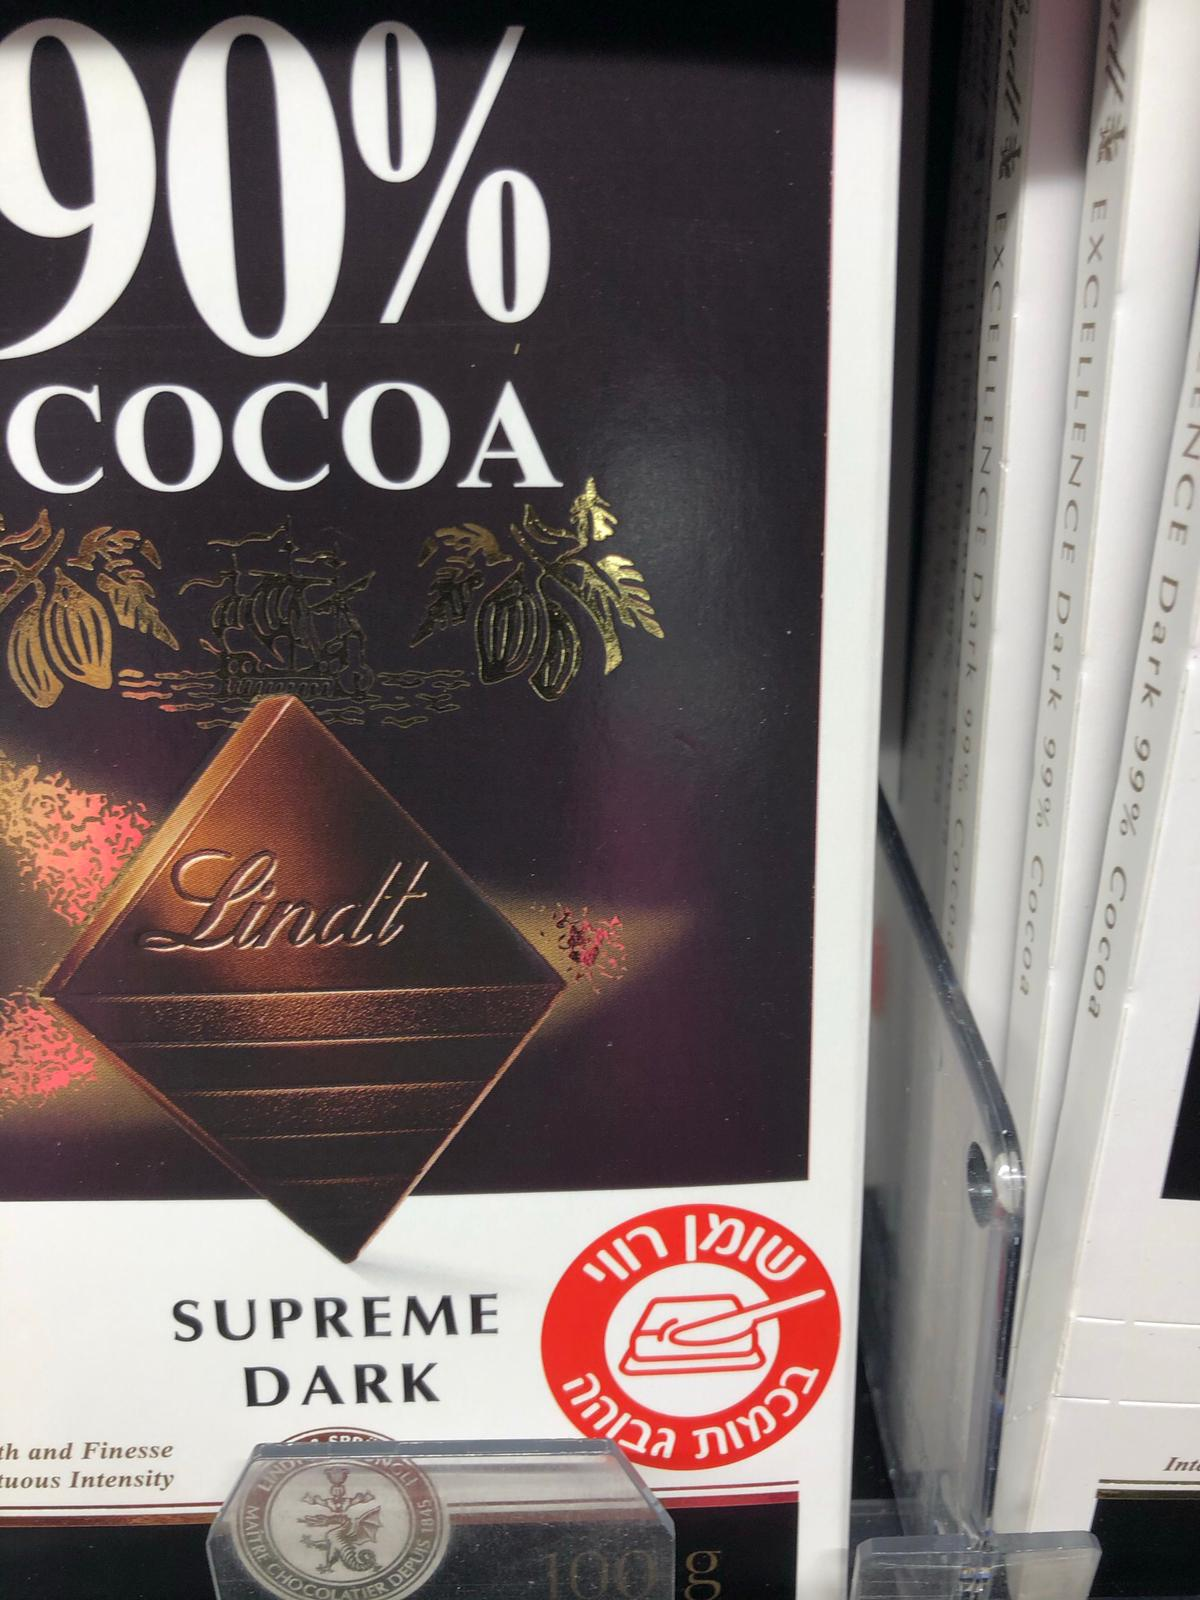fat: (542, 1208, 841, 1471)
